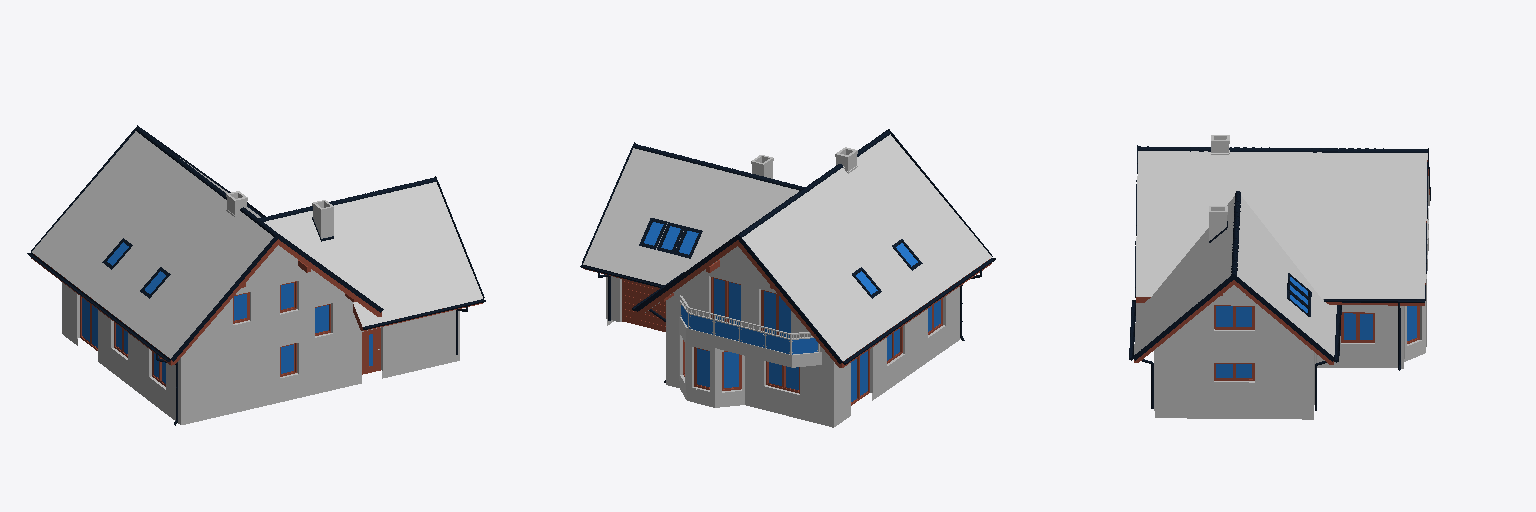
File: house.obj
The picture shows the model from 3 angles: view 1: azimuth 30°, elevation 25°; view 2: azimuth 150°, elevation 25°; view 3: azimuth 270°, elevation 25°; orthographic projection.
Parts seen in each view (by area): view 1: roof_Cube.002, wall_exterior_Plane.001, roof.001_Cube.003, window.011_Cube.018, cover_sides.001_Cube.057, cover_roof.001_Circle.000, gutter.001_Circle.001, chimney.002_Cube.098, door_wing.013_Cube.102, window_roof_Cube.068; view 2: roof_Cube.002, wall_exterior_Plane.001, roof.001_Cube.003, window.011_Cube.018, barrels.001_Cube.011, window_roof_Cube.068, balcony_Cube.004, cover_sides.001_Cube.057, cover_roof.001_Circle.000, gutter.001_Circle.001, door_garage_Cube.019, chimney.002_Cube.098; view 3: roof_Cube.002, wall_exterior_Plane.001, roof.001_Cube.003, window.011_Cube.018, cover_roof.001_Circle.000, cover_sides.001_Cube.057, gutter.001_Circle.001, chimney.002_Cube.098, window_roof_Cube.068.
Part boxes in pixels (left/top/right/bottom): roof_Cube.002: left=31, top=131, right=381, bottom=365; wall_exterior_Plane.001: left=62, top=245, right=459, bottom=424; roof.001_Cube.003: left=264, top=182, right=482, bottom=330; window.011_Cube.018: left=80, top=281, right=332, bottom=389; cover_sides.001_Cube.057: left=31, top=125, right=484, bottom=361; cover_roof.001_Circle.000: left=136, top=128, right=436, bottom=236; gutter.001_Circle.001: left=27, top=202, right=485, bottom=425; chimney.002_Cube.098: left=226, top=191, right=333, bottom=241; door_wing.013_Cube.102: left=362, top=328, right=380, bottom=374; window_roof_Cube.068: left=102, top=238, right=170, bottom=298; roof_Cube.002: left=636, top=134, right=991, bottom=367; wall_exterior_Plane.001: left=606, top=246, right=960, bottom=427; roof.001_Cube.003: left=583, top=148, right=798, bottom=288; window.011_Cube.018: left=680, top=277, right=945, bottom=405; barrels.001_Cube.011: left=679, top=295, right=819, bottom=354; window_roof_Cube.068: left=639, top=218, right=922, bottom=298; balcony_Cube.004: left=679, top=316, right=821, bottom=367; cover_sides.001_Cube.057: left=582, top=129, right=992, bottom=363; cover_roof.001_Circle.000: left=633, top=130, right=890, bottom=237; gutter.001_Circle.001: left=580, top=258, right=995, bottom=382; door_garage_Cube.019: left=622, top=279, right=665, bottom=331; chimney.002_Cube.098: left=751, top=147, right=857, bottom=178; roof_Cube.002: left=1136, top=151, right=1429, bottom=305; wall_exterior_Plane.001: left=1154, top=285, right=1426, bottom=419; roof.001_Cube.003: left=1134, top=196, right=1336, bottom=364; window.011_Cube.018: left=1214, top=305, right=1421, bottom=382; cover_roof.001_Circle.000: left=1138, top=146, right=1427, bottom=275; cover_sides.001_Cube.057: left=1132, top=145, right=1430, bottom=361; gutter.001_Circle.001: left=1129, top=299, right=1424, bottom=410; chimney.002_Cube.098: left=1209, top=135, right=1229, bottom=242; window_roof_Cube.068: left=1287, top=273, right=1311, bottom=316.
Size of the model in its own units: 37.22 by 21.04 by 30.66.